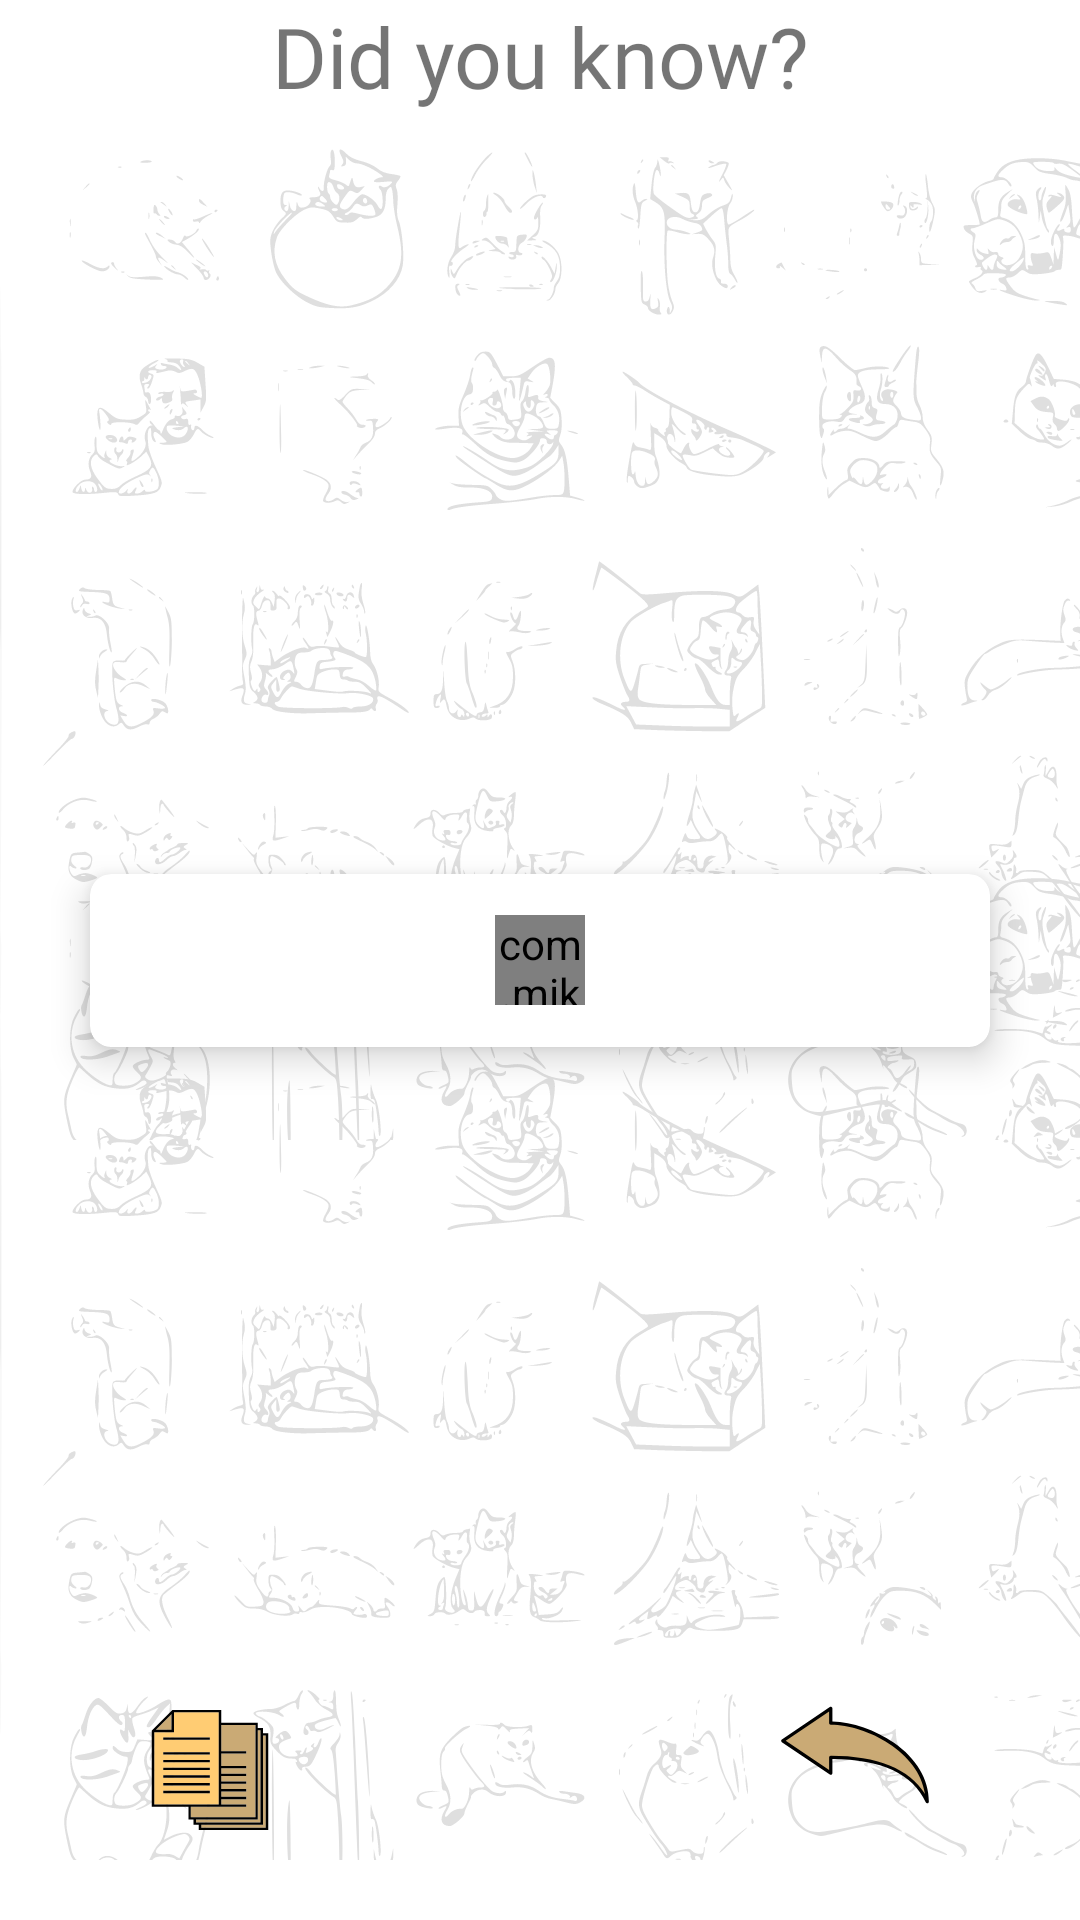

Where to tap for icons on this 1080×1920 app screen, as point (x, y):
back arrow: point (855, 1768)
